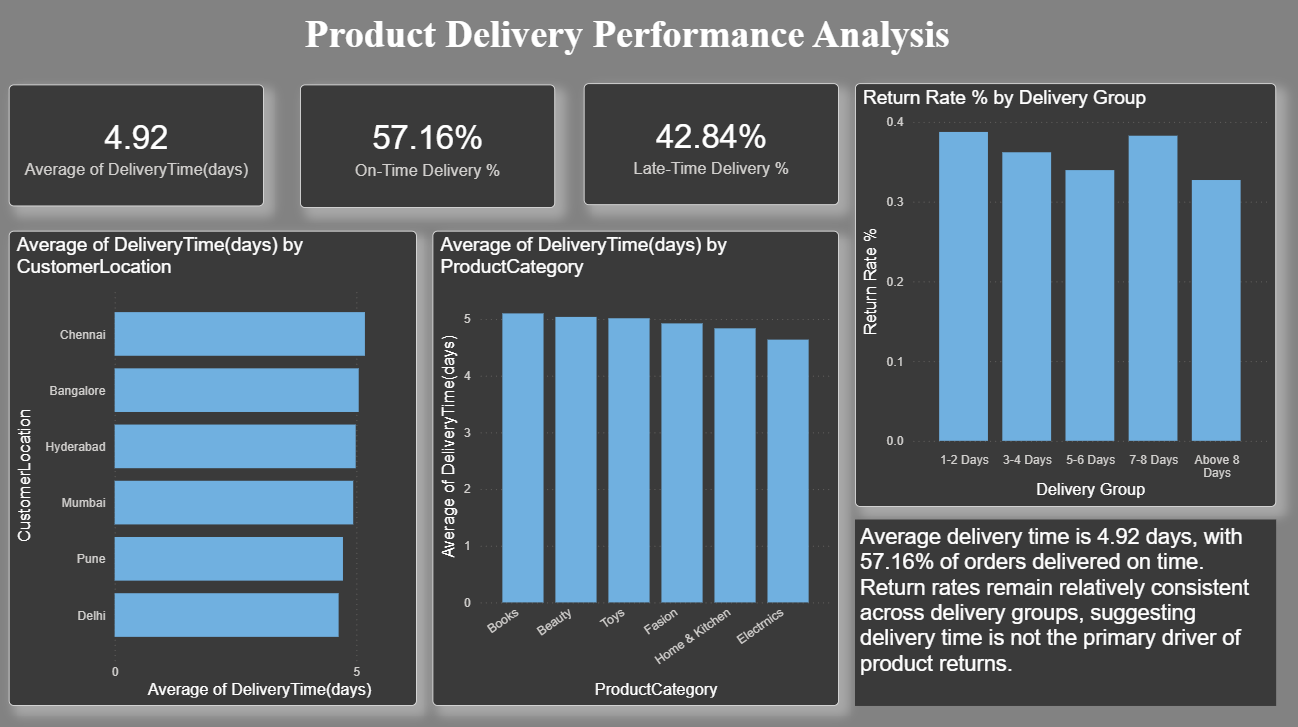

This screenshot's page, from the dashboard's own definition file:
{"tool":"powerbi","page":{"name":"Product Delivery Performance","canvas":[1280,720],"ordinal":5},"visuals":[{"type":"card","fields":{"Values":["Avg(ecommerce_messy_data (1).DeliveryTime(days))"]},"box":[13.7,90.6,249.7,119.4],"z":0},{"type":"card","fields":{"Values":["ecommerce_messy_data (1).On-Time Delivery %"]},"box":[297.8,90.6,249.7,120.8],"z":1000},{"type":"card","fields":{"Values":["ecommerce_messy_data (1).Late-Time Delivery %"]},"box":[576.3,89.2,249.7,119.4],"z":2000},{"type":"barChart","fields":{"Category":["ecommerce_messy_data (1).CustomerLocation"],"Y":["Avg(ecommerce_messy_data (1).DeliveryTime(days))"]},"box":[13.7,233.3,399.3,465.2],"z":3000},{"type":"columnChart","fields":{"Category":["ecommerce_messy_data (1).ProductCategory"],"Y":["Avg(ecommerce_messy_data (1).DeliveryTime(days))"]},"box":[428.1,233.3,397.9,465.2],"z":4000},{"type":"clusteredColumnChart","fields":{"Category":["ecommerce_messy_data (1).Delivery Group"],"Y":["ecommerce_messy_data (1).Return Rate %"]},"box":[841.2,89.2,411.7,414.4],"z":5000},{"type":"textbox","box":[841.2,516,411.7,182.5],"z":6000},{"type":"textbox","box":[297.8,15.1,647.7,56.3],"z":7000}]}

Visuals, with their boxes in screenshot pixels (x1, y1, x2, y2), scaled from the page's 1280x720 canvas onto the 1298x727 screenshot:
card - Avg(ecommerce_messy_data (1).DeliveryTime(days)): [14, 91, 267, 212]
card - ecommerce_messy_data (1).On-Time Delivery %: [302, 91, 555, 213]
card - ecommerce_messy_data (1).Late-Time Delivery %: [584, 90, 838, 211]
barChart - ecommerce_messy_data (1).CustomerLocation x Avg(ecommerce_messy_data (1).DeliveryTime(days)): [14, 236, 419, 705]
columnChart - ecommerce_messy_data (1).ProductCategory x Avg(ecommerce_messy_data (1).DeliveryTime(days)): [434, 236, 838, 705]
clusteredColumnChart - ecommerce_messy_data (1).Delivery Group x ecommerce_messy_data (1).Return Rate %: [853, 90, 1271, 508]
textbox: [853, 521, 1271, 705]
textbox: [302, 15, 959, 72]
